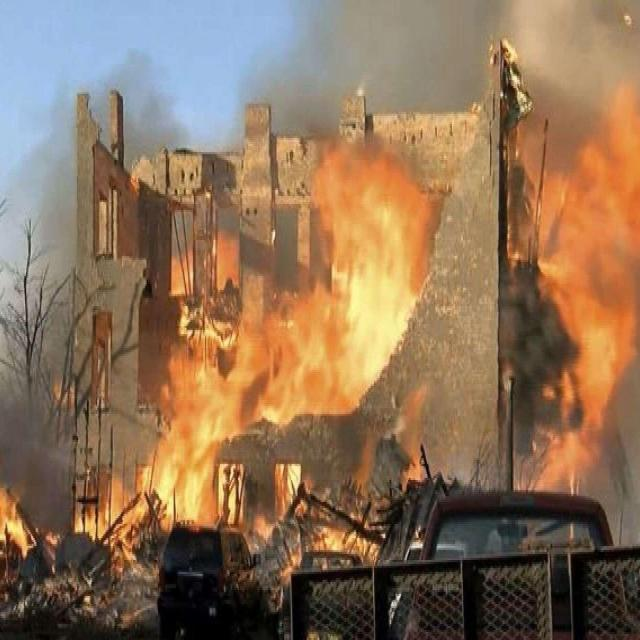Fire: (35, 120, 640, 534)
